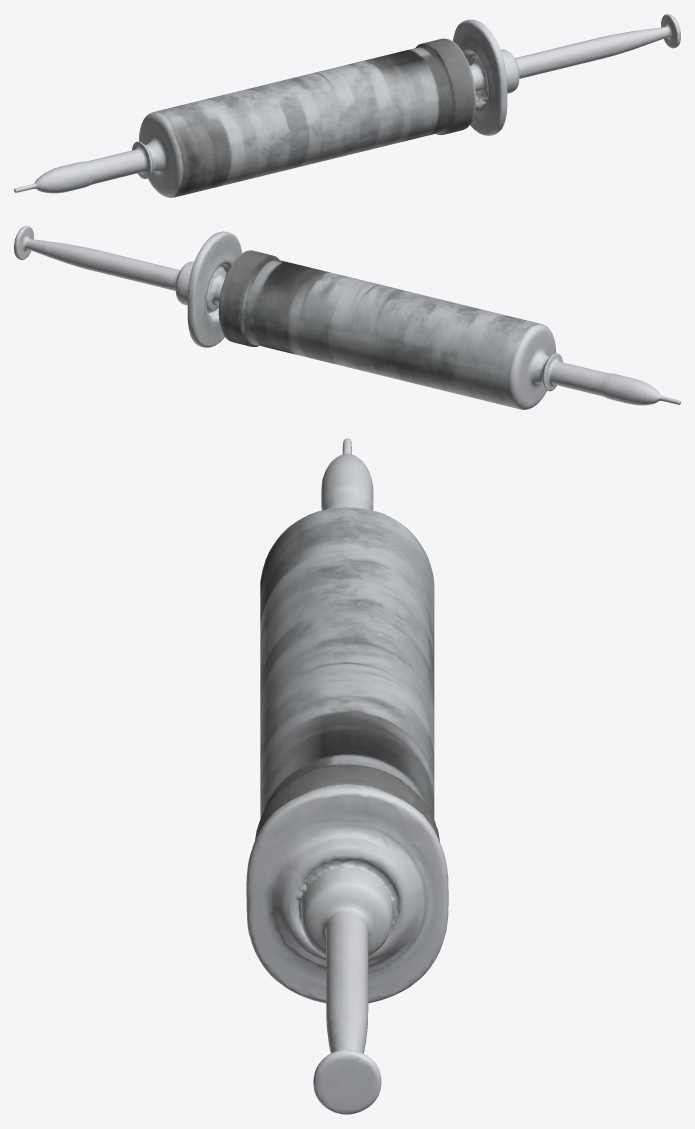
The model's file is Meshy_AI_a_single_syringe_full_1009173346_texture.fbx.
The picture shows the model from 3 angles, top to bottom: view 1: azimuth 30°, elevation 25°; view 2: azimuth 150°, elevation 25°; view 3: azimuth 270°, elevation 25°; orthographic projection. The views are drawn at different scales.
Parts seen in each view (by area): view 1: Mesh_0; view 2: Mesh_0; view 3: Mesh_0.
Part boxes in pixels (left/top/right/bottom): Mesh_0: left=14, top=14, right=680, bottom=197; Mesh_0: left=14, top=226, right=680, bottom=409; Mesh_0: left=246, top=438, right=448, bottom=1114.
Size of the model in its own units: 190 by 29.67 by 25.23.
1 material, 1 textured.
